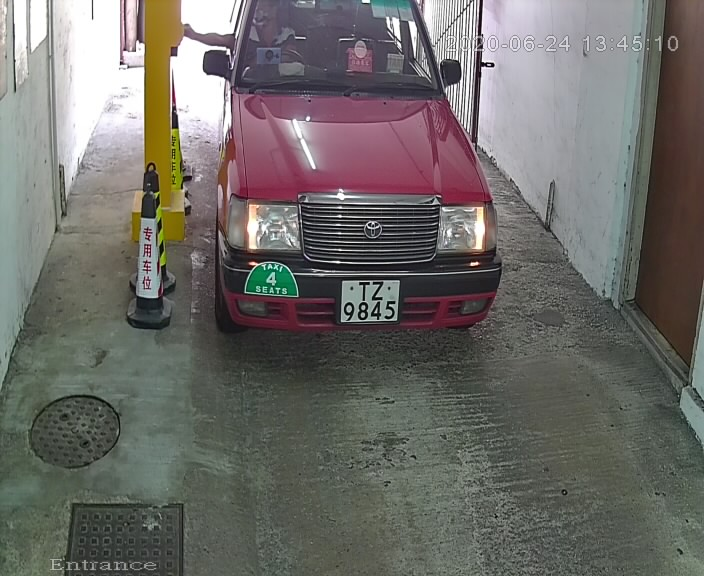Car: (190, 1, 517, 358)
License Plate: (339, 273, 404, 330)
